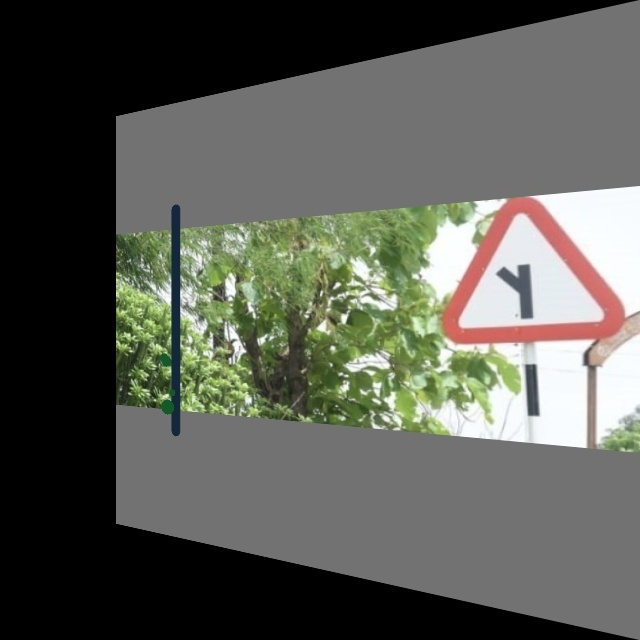Y_Intersection: (447, 193, 613, 345)
